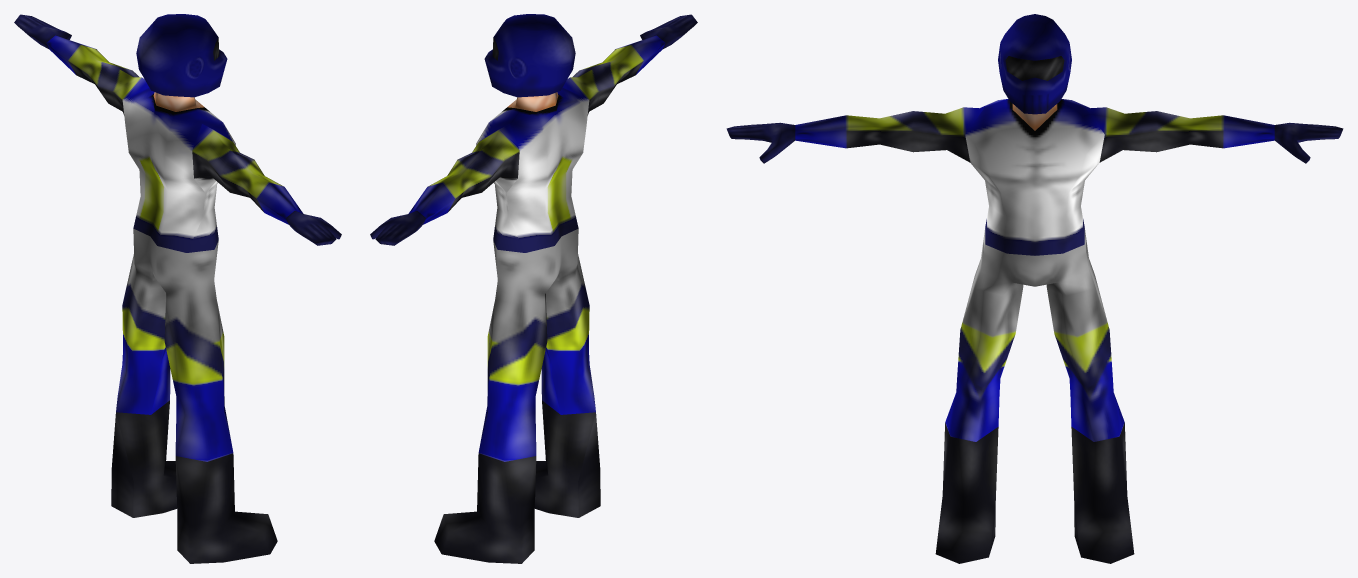
The model's file is rider-male_newarteest.glb.
3 renders of one model, left to right at view 1: azimuth 30°, elevation 25°; view 2: azimuth 150°, elevation 25°; view 3: azimuth 270°, elevation 25°, orthographic.
Parts seen in each view (by area): view 1: mrider.3ds_0; view 2: mrider.3ds_0; view 3: mrider.3ds_0.
Part boxes in pixels (bbox=[...]): mrider.3ds_0: bbox=[14, 14, 341, 563]; mrider.3ds_0: bbox=[370, 14, 697, 563]; mrider.3ds_0: bbox=[726, 14, 1343, 563].
Size of the model in its own units: 14.34 by 70.97 by 77.5.
Materials: 1 (1 with a texture image).
